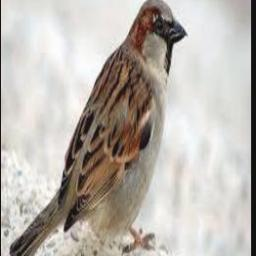Sparrow: (10, 0, 188, 256)
